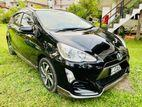car: (6, 9, 130, 99)
